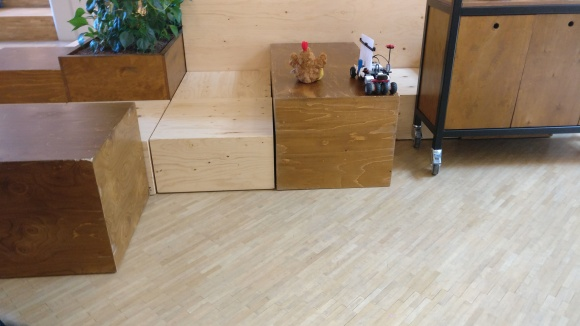car: (349, 34, 397, 97)
chicken: (288, 40, 326, 85)
